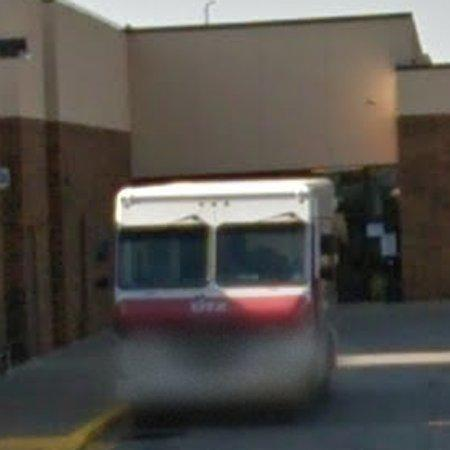buses: (115, 178, 335, 326)
